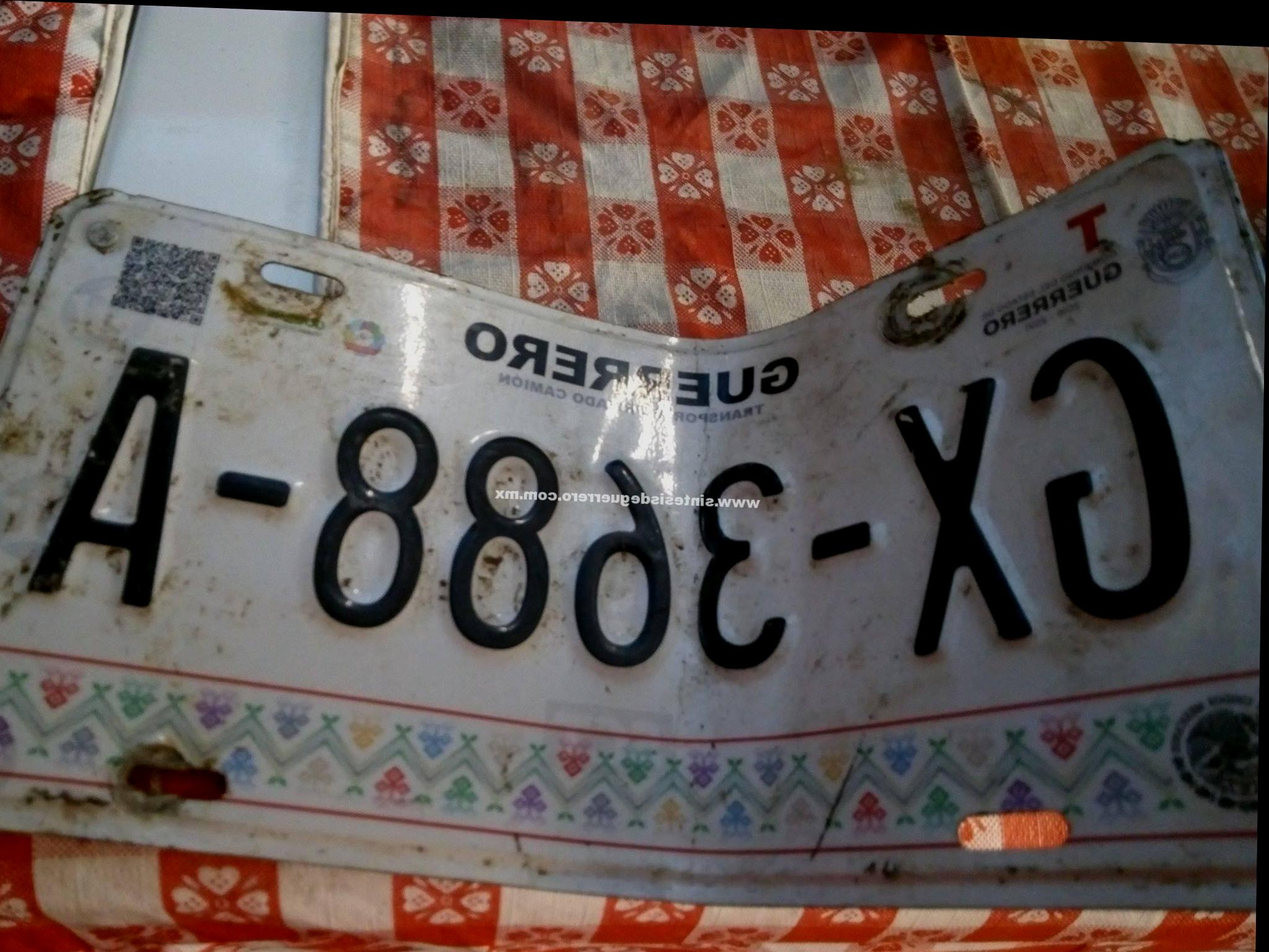License_Plate: (5, 126, 1251, 939)
